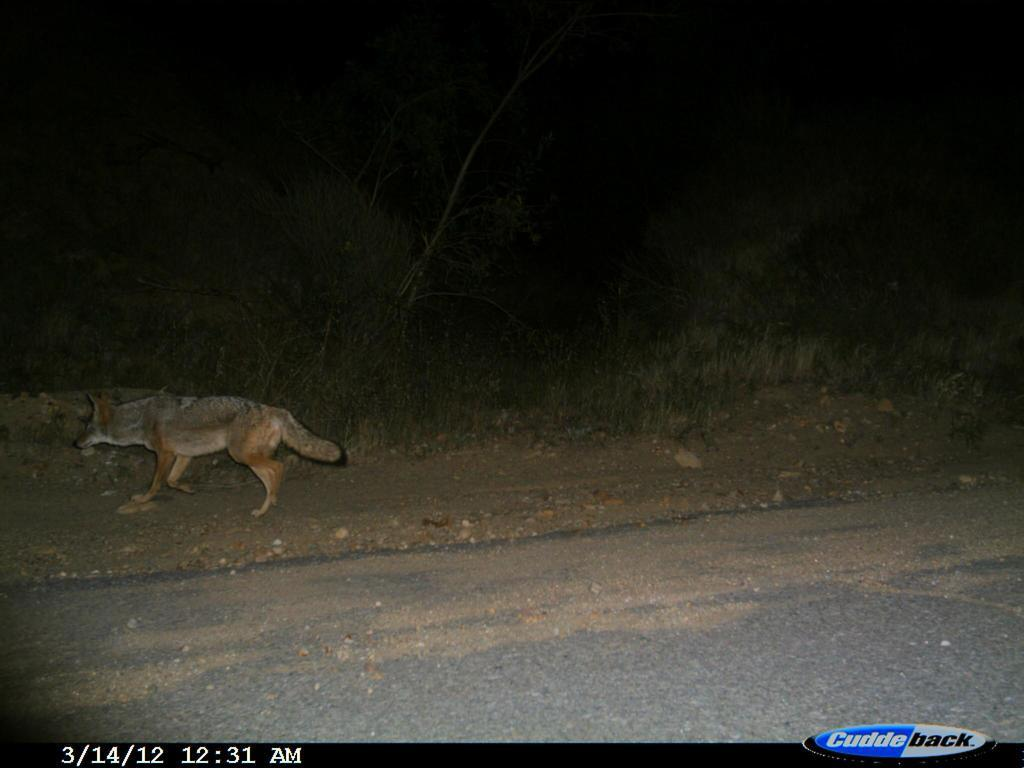coyote: (70, 386, 351, 529)
